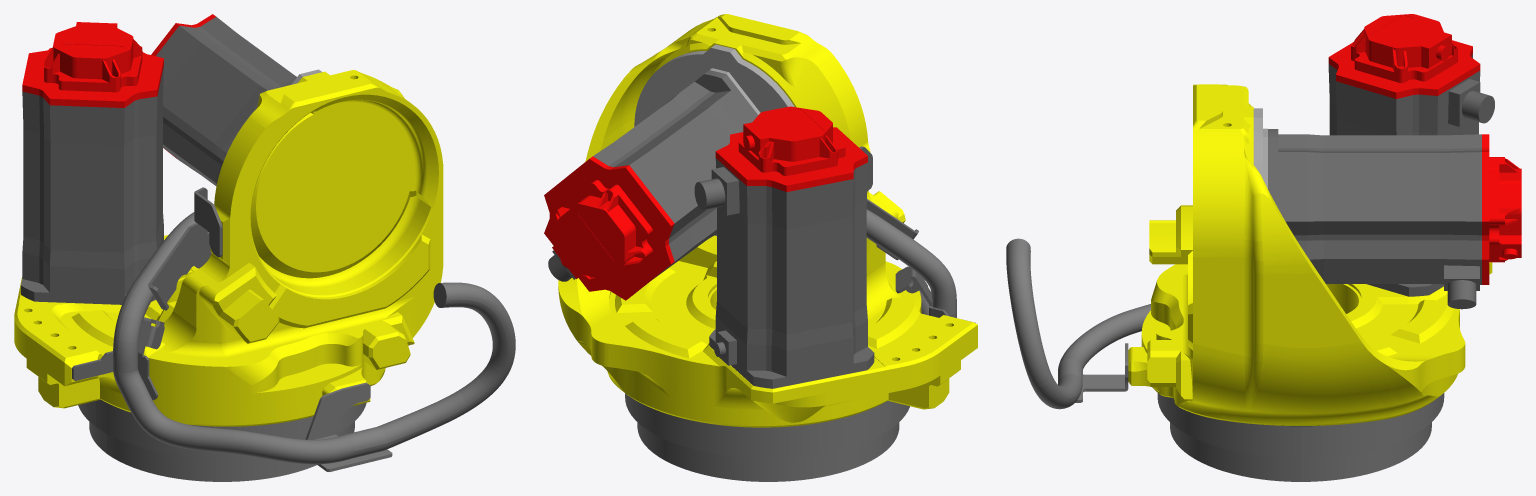
3 views of the same model, side by side, from view 1: azimuth 30°, elevation 25°; view 2: azimuth 150°, elevation 25°; view 3: azimuth 270°, elevation 25° (orthographic).
Visible parts, largest first — view 1: Mesh_0; view 2: Mesh_0; view 3: Mesh_0.
Part boxes in pixels (x1,y1,x2,y2): Mesh_0: (14,14,515,481); Mesh_0: (544,14,977,481); Mesh_0: (1006,14,1521,481).
Bounding box in the file's own units: 0.4017 × 0.5019 × 0.3882.
